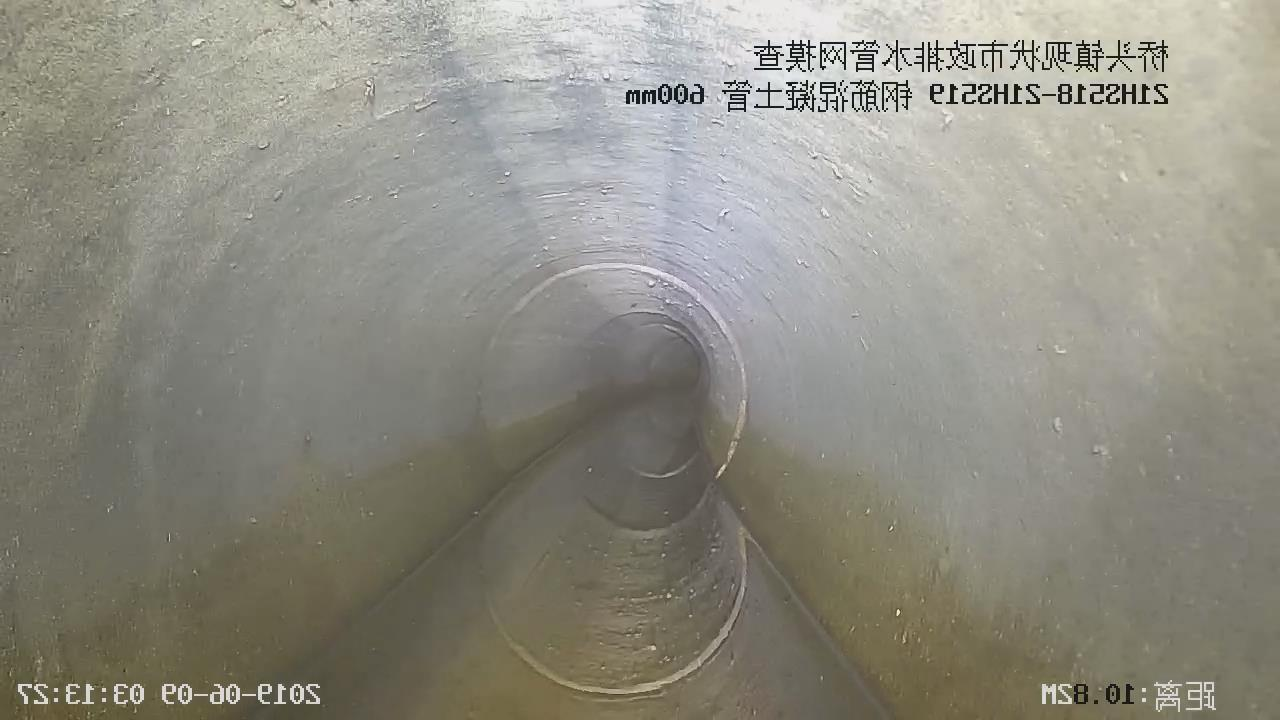CKTJ: (492, 262, 748, 479), (522, 653, 592, 691), (643, 653, 709, 687), (593, 689, 639, 693)
